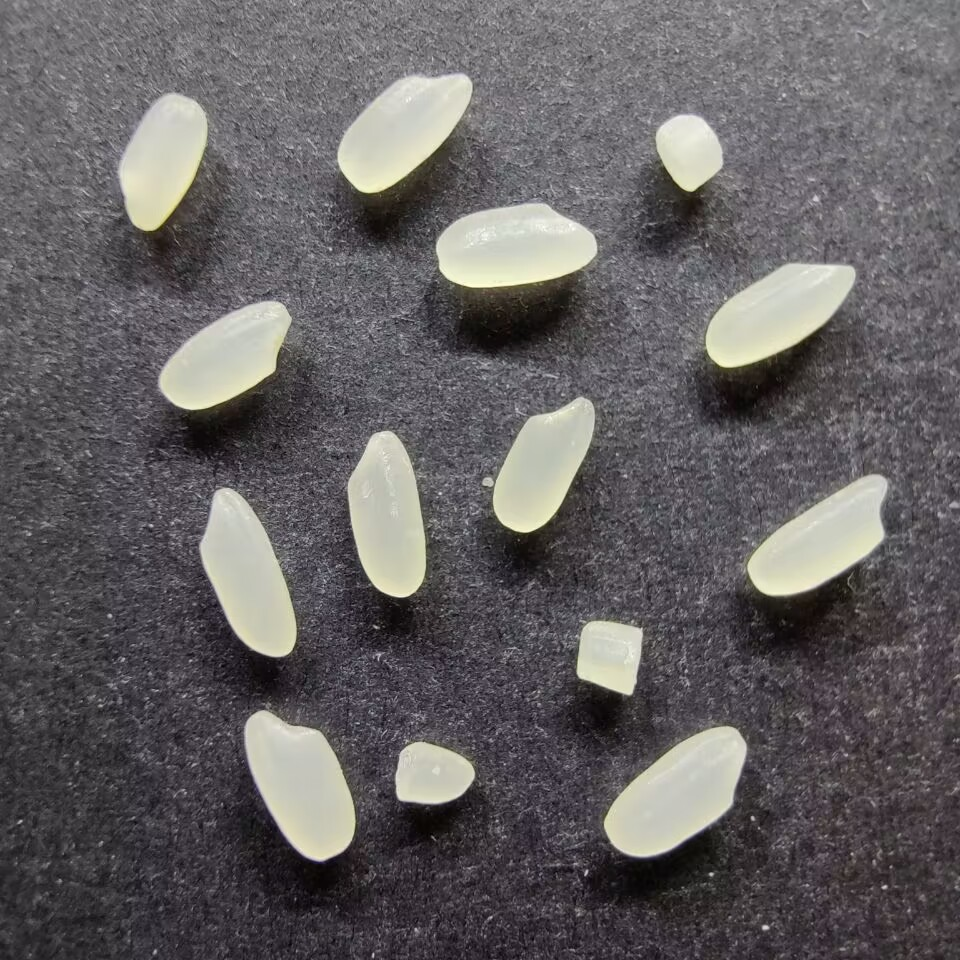broken: (653, 111, 725, 194), (575, 618, 645, 699), (393, 740, 475, 805)
rice: (601, 725, 748, 859), (745, 470, 888, 597), (241, 708, 357, 862), (196, 485, 298, 659), (335, 70, 475, 195), (703, 259, 857, 369), (156, 299, 292, 412), (435, 200, 598, 291), (491, 395, 596, 534), (344, 429, 428, 600), (115, 90, 208, 234)
